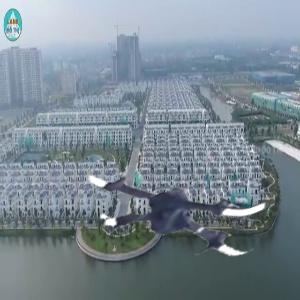drone: (92, 108, 270, 286)
